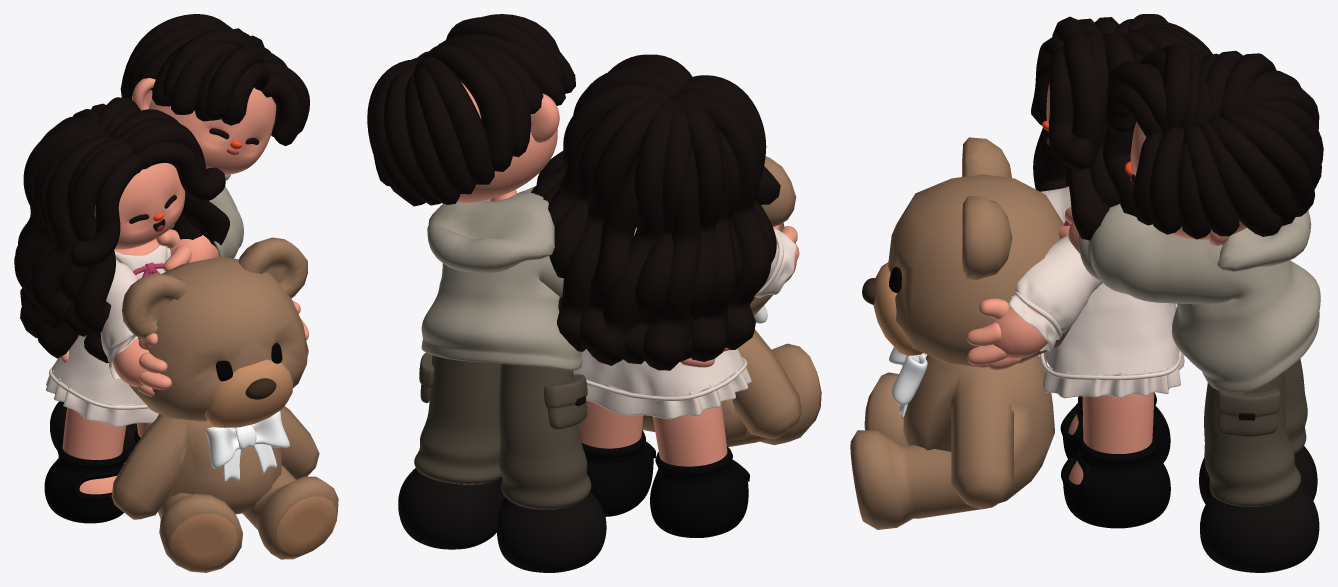
The model's file is teddy.glb.
The picture shows the model from 3 angles, left to right: view 1: azimuth 30°, elevation 25°; view 2: azimuth 150°, elevation 25°; view 3: azimuth 270°, elevation 25°; orthographic projection. The views are drawn at different scales.
Parts seen in each view (by area): view 1: couple-teddy-bear-col; view 2: couple-teddy-bear-col; view 3: couple-teddy-bear-col.
Part boxes in pixels (left/top/right/bottom): couple-teddy-bear-col: left=14, top=14, right=338, bottom=572; couple-teddy-bear-col: left=367, top=14, right=821, bottom=572; couple-teddy-bear-col: left=850, top=14, right=1323, bottom=572.
Size of the model in its own units: 2.37 by 3.24 by 2.74.
